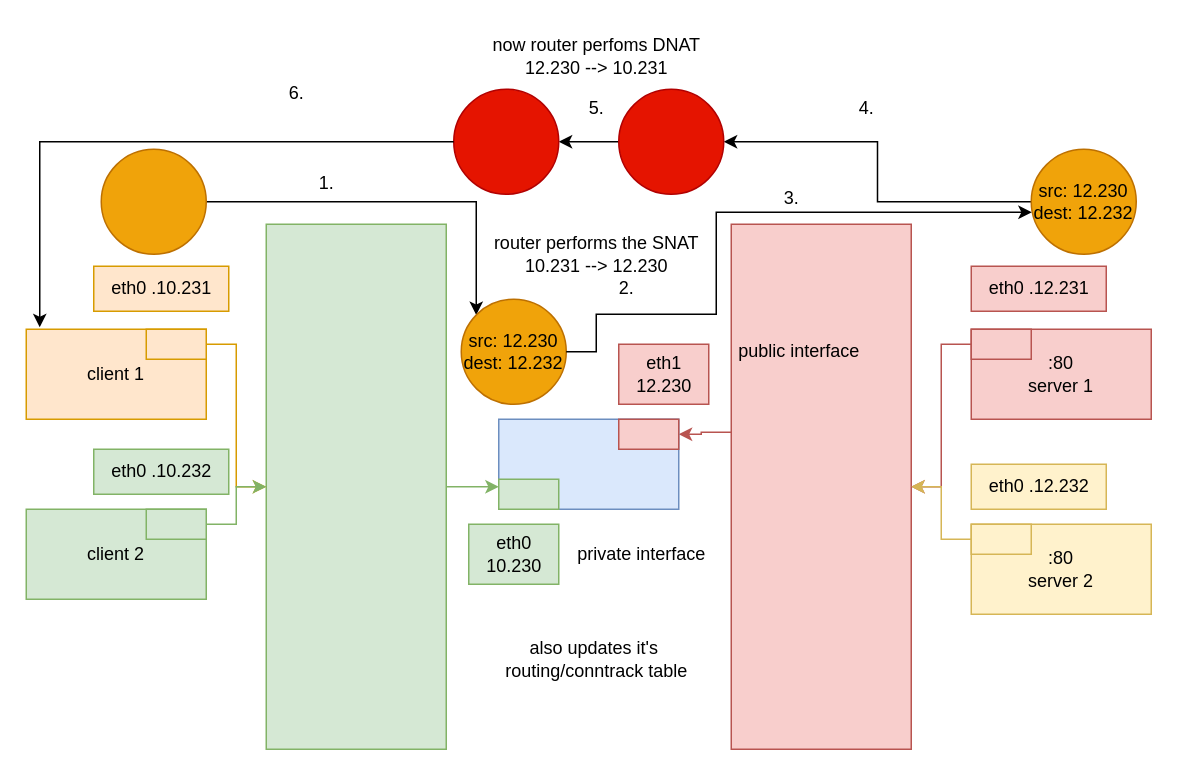
This 1178x776 diagram has some shape labels left out. Here are the shapes that lost their labels. From the top down, the box of each, then its label:
(452, 88, 559, 194): src: 12.231 dest: 10.231
(617, 88, 724, 194): src: 12.231 dest: 12.230
(100, 148, 206, 254): src: 10.231 dest: 12.232
(497, 418, 679, 509): router
(265, 223, 446, 749): private 10.0/24
(730, 223, 911, 749): public 12.0/24
